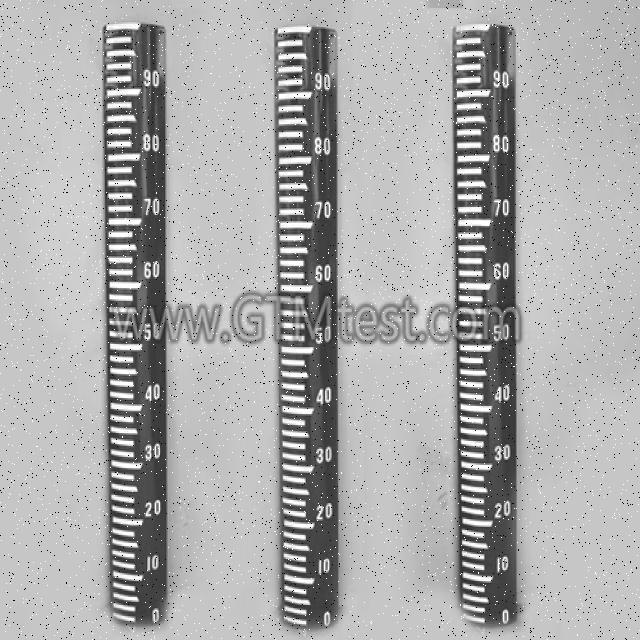staff: (101, 24, 168, 625), (450, 23, 516, 622), (273, 27, 338, 628)
